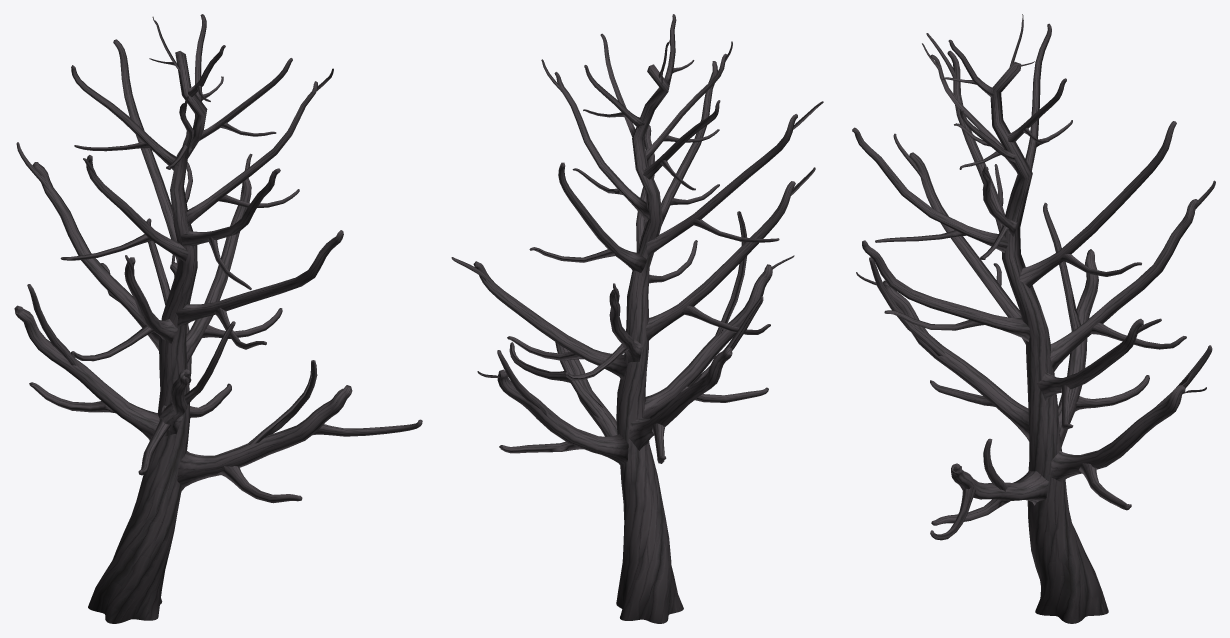
Rendered from dead-tree-3.glb.
3 renders of one model, left to right at view 1: azimuth 30°, elevation 25°; view 2: azimuth 150°, elevation 25°; view 3: azimuth 270°, elevation 25°, orthographic. The views are drawn at different scales.
Visible parts, largest first — view 1: DeadTree_2; view 2: DeadTree_2; view 3: DeadTree_2.
Part boxes in pixels (left/top/right/bottom): DeadTree_2: left=14, top=14, right=422, bottom=623; DeadTree_2: left=451, top=14, right=823, bottom=623; DeadTree_2: left=852, top=14, right=1215, bottom=623.
Bounding box in the file's own units: 6.73 × 11.49 × 6.38.
1 material, 1 textured.
